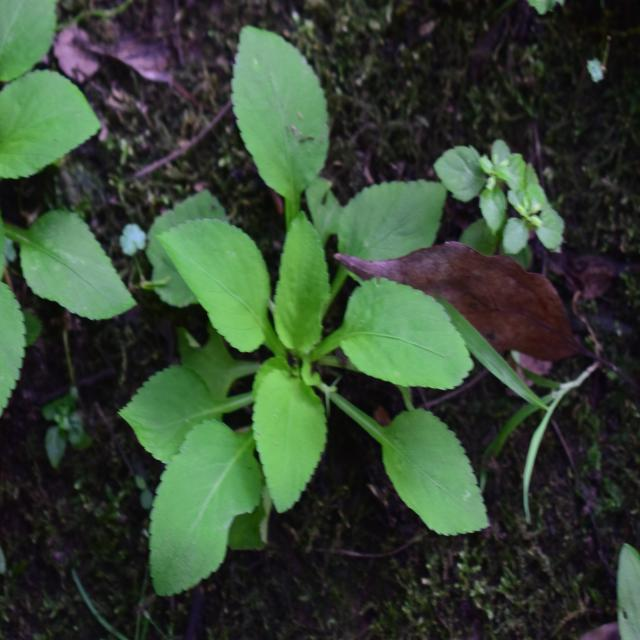Viola: (152, 137, 520, 576)
